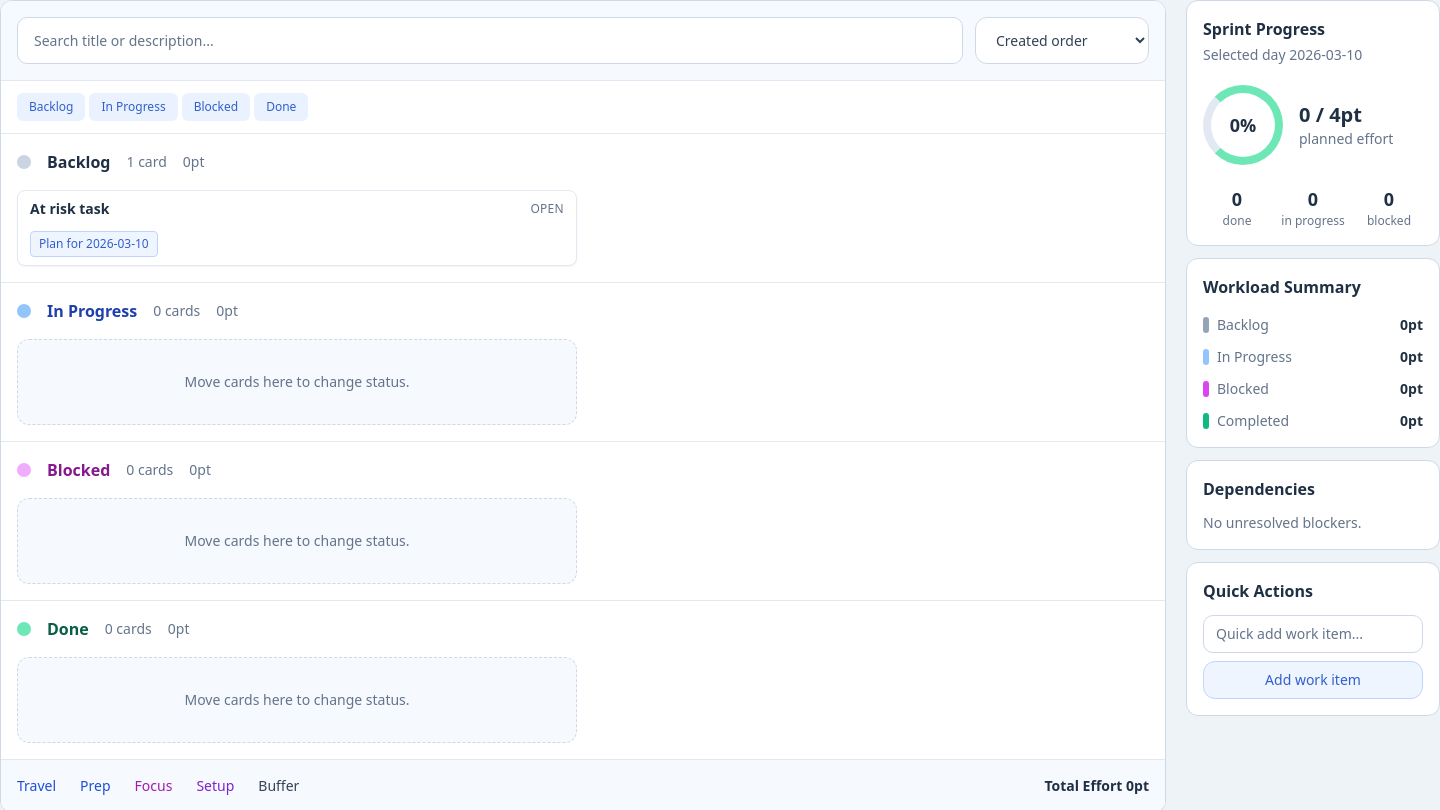
it: KanbanBoard › shows risk badge for cards with due-date shortfall
Click the button with aria-label "expand at risk task". click: (70, 208)
box: [30,199,564,219]
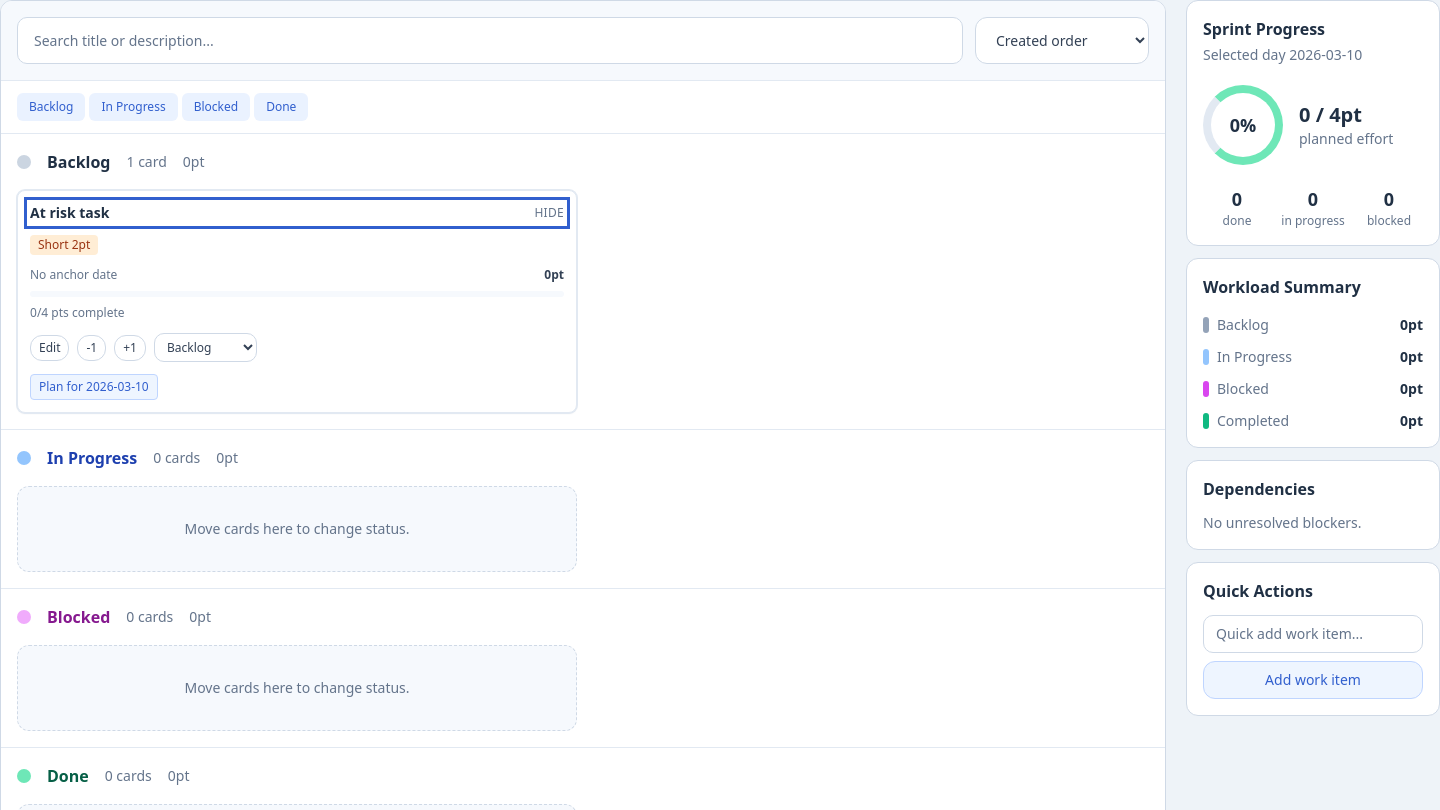
Now the text "Short 2pt" is shown, box [30,235,98,255]
